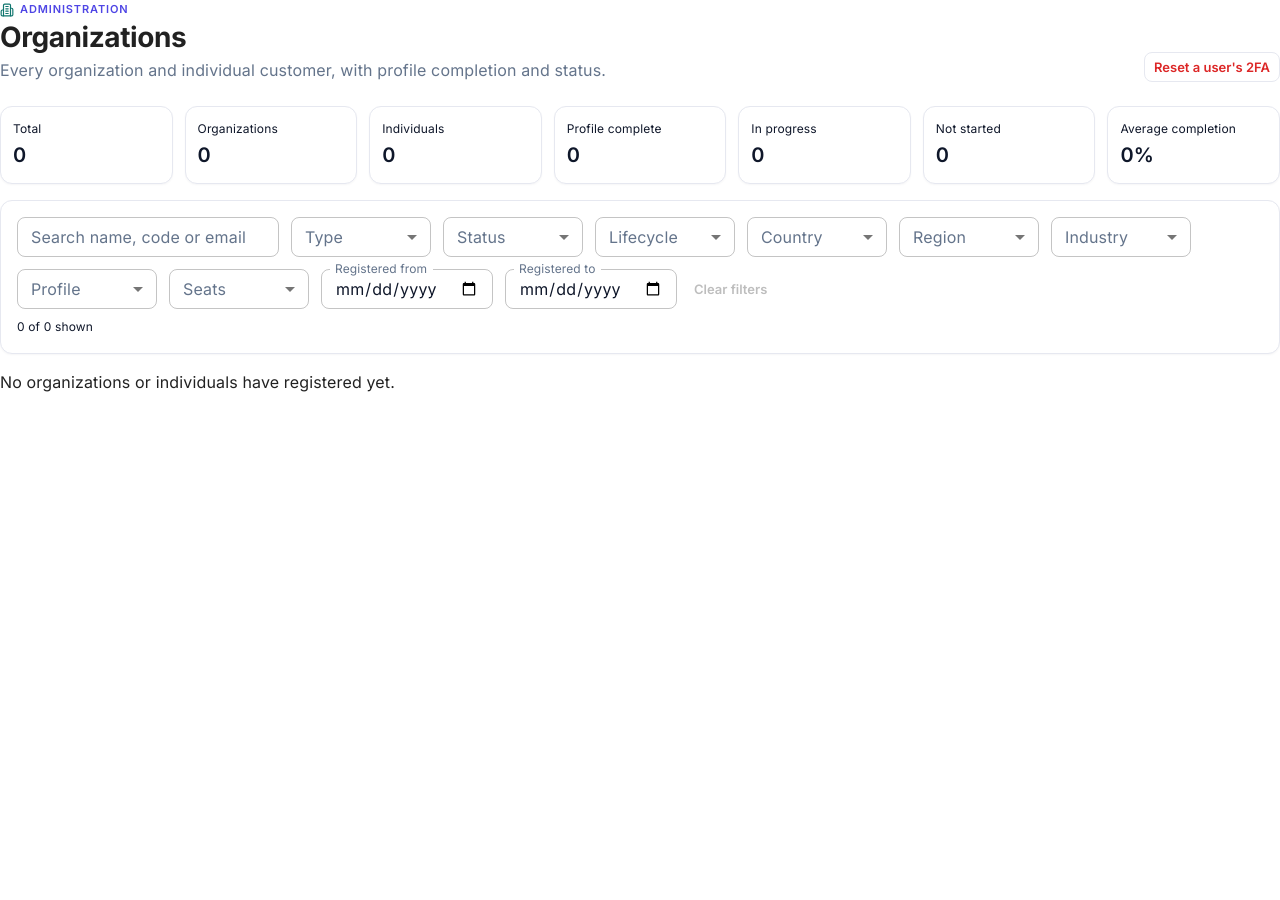
Two-factor reset by an administrator › lets a platform admin reset any account by email
The width and height of the screenshot is (1280, 900).
Click the button "Reset a user's 2FA" at (1212, 67), box [1144,52,1279,82]
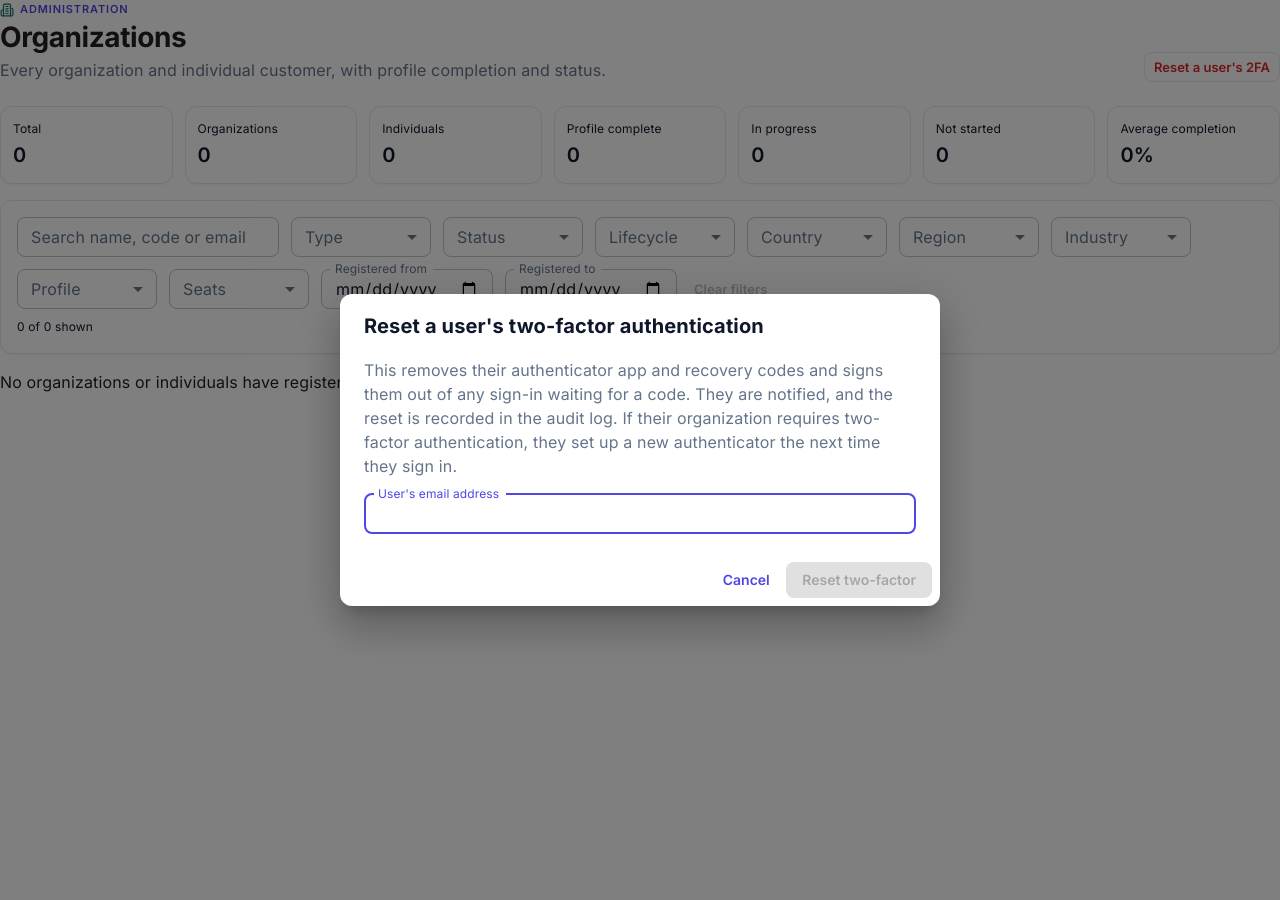
Result: the button "Reset two-factor" is disabled at [786,562,932,598]
Type "kim@example.com" into the field labelled "User's email address" at (640, 514), box [364,494,916,534]
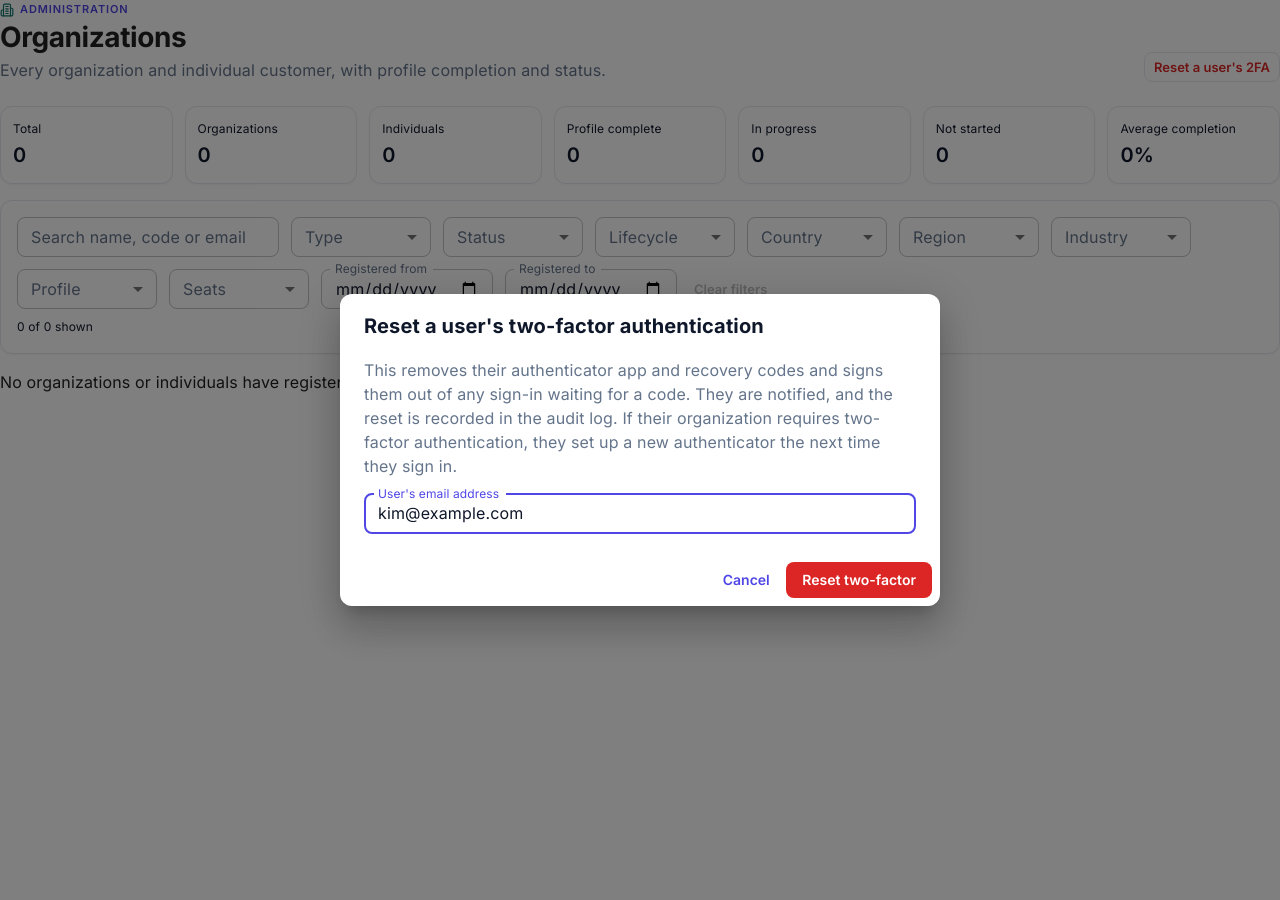
Click the button "Reset two-factor" at (859, 580), box [786,562,932,598]
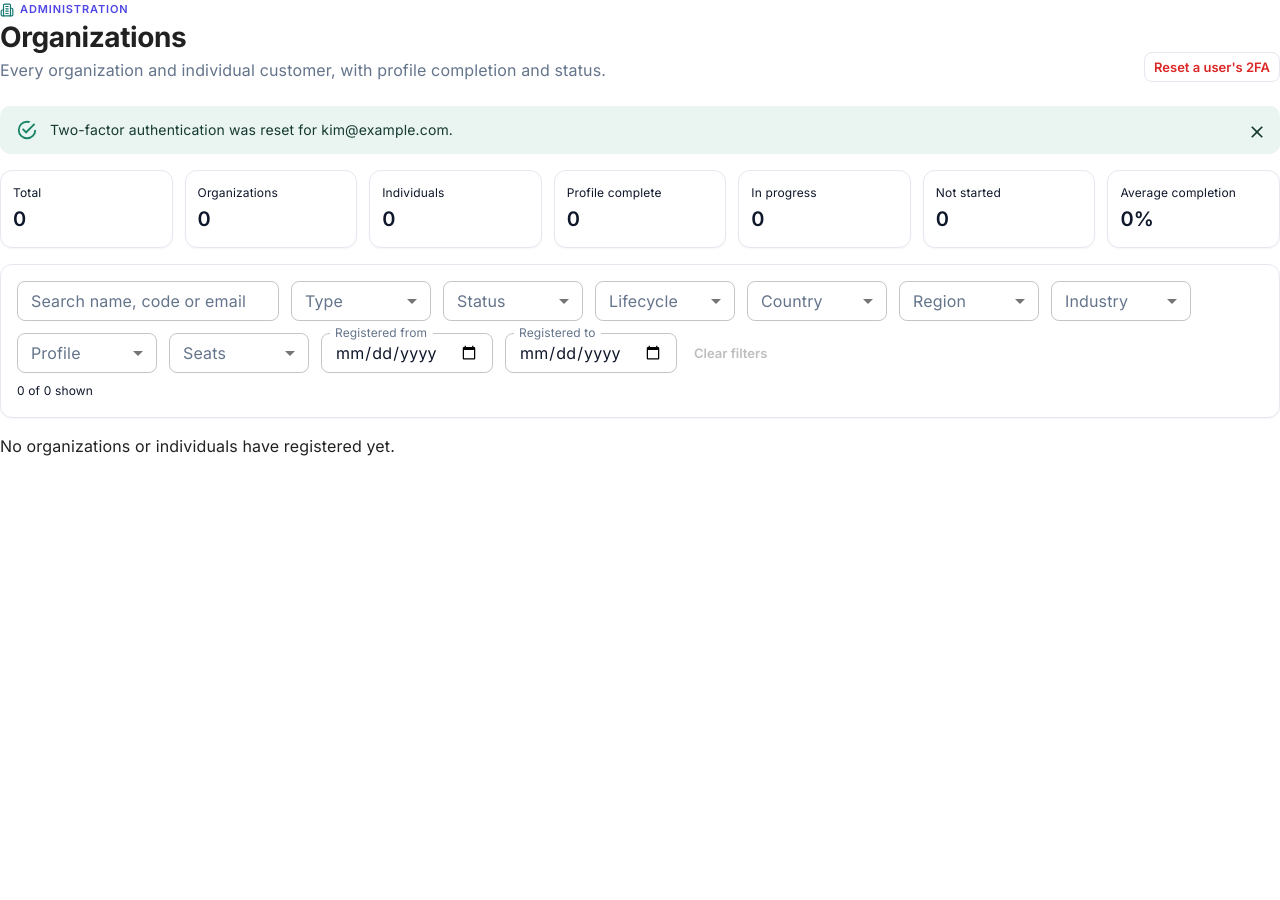
Result: the text "Two-factor authentication was reset for kim@example.com." is shown at [50,121,453,138]
